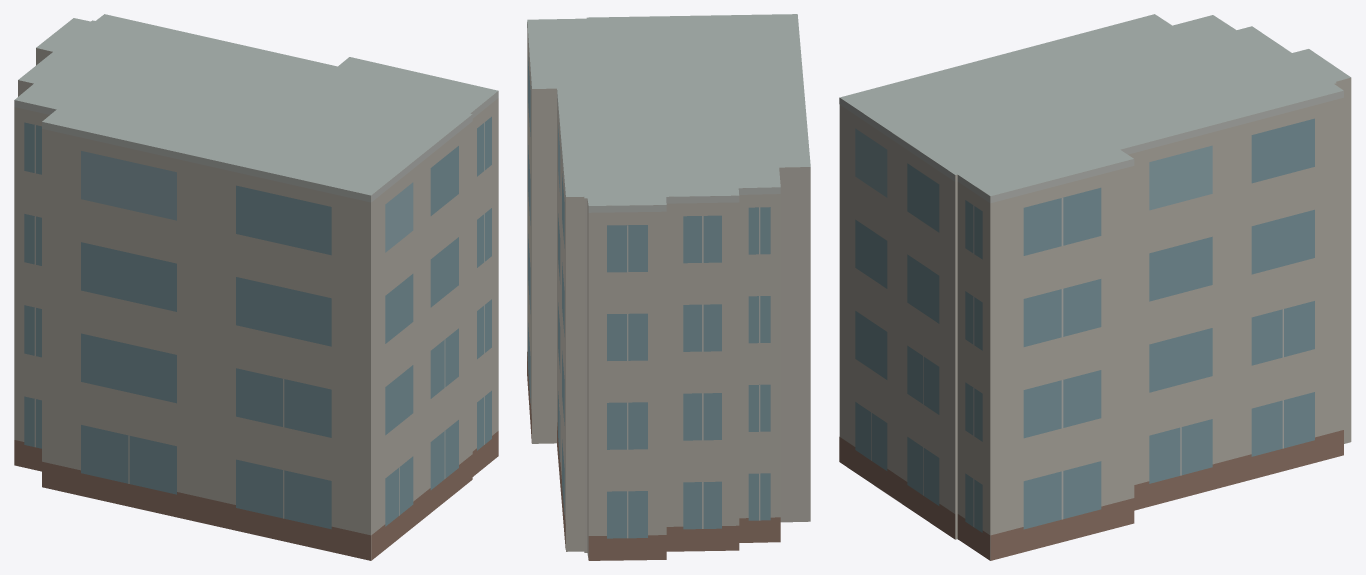
Rendered from survey-upis-32738488.glb.
3 renders of one model, left to right at view 1: azimuth 30°, elevation 25°; view 2: azimuth 150°, elevation 25°; view 3: azimuth 270°, elevation 25°, orthographic. The views are drawn at different scales.
Parts seen in each view (by area): view 1: survey-upis-32738488.tmp; view 2: survey-upis-32738488.tmp; view 3: survey-upis-32738488.tmp.
Boxes of the visible parts, x1,y1,x2,y2 form: survey-upis-32738488.tmp: [14, 14, 498, 560]; survey-upis-32738488.tmp: [527, 14, 810, 560]; survey-upis-32738488.tmp: [839, 14, 1351, 560].
Size of the model in its own units: 13.63 by 12.7 by 16.17.
